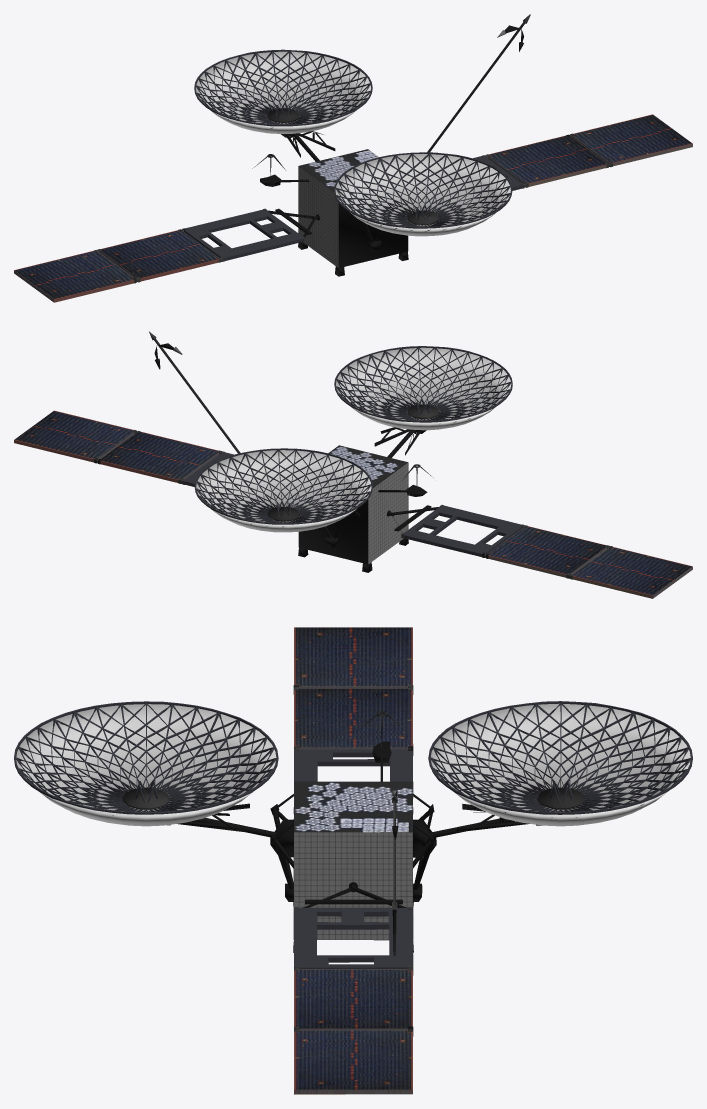
Rendered from TDRS.glb.
3 renders of one model, top to bottom at view 1: azimuth 30°, elevation 25°; view 2: azimuth 150°, elevation 25°; view 3: azimuth 270°, elevation 25°, orthographic. The views are drawn at different scales.
Parts seen in each view (by area): view 1: tex_01, shiny_panel, tex_02, black_krinkle, foil_silver; view 2: tex_01, shiny_panel, tex_02, black_krinkle, foil_silver; view 3: tex_01, shiny_panel, tex_02, black_krinkle, foil_silver.
Part boxes in pixels (box(x1,y1,x2,y2)): tex_01: box(89, 49, 692, 294); shiny_panel: box(14, 114, 692, 302); tex_02: box(196, 51, 510, 236); black_krinkle: box(260, 25, 523, 276); foil_silver: box(94, 14, 612, 283); tex_01: box(101, 346, 522, 556); shiny_panel: box(14, 410, 692, 598); tex_02: box(196, 347, 511, 532); black_krinkle: box(154, 343, 438, 572); foil_silver: box(94, 331, 612, 579); tex_01: box(14, 701, 692, 1094); shiny_panel: box(294, 627, 412, 1094); tex_02: box(16, 703, 690, 826); black_krinkle: box(167, 741, 542, 952); foil_silver: box(122, 685, 584, 1036).
Size of the model in its own units: 21.12 by 5.76 by 13.11.
5 materials, 4 textured.
